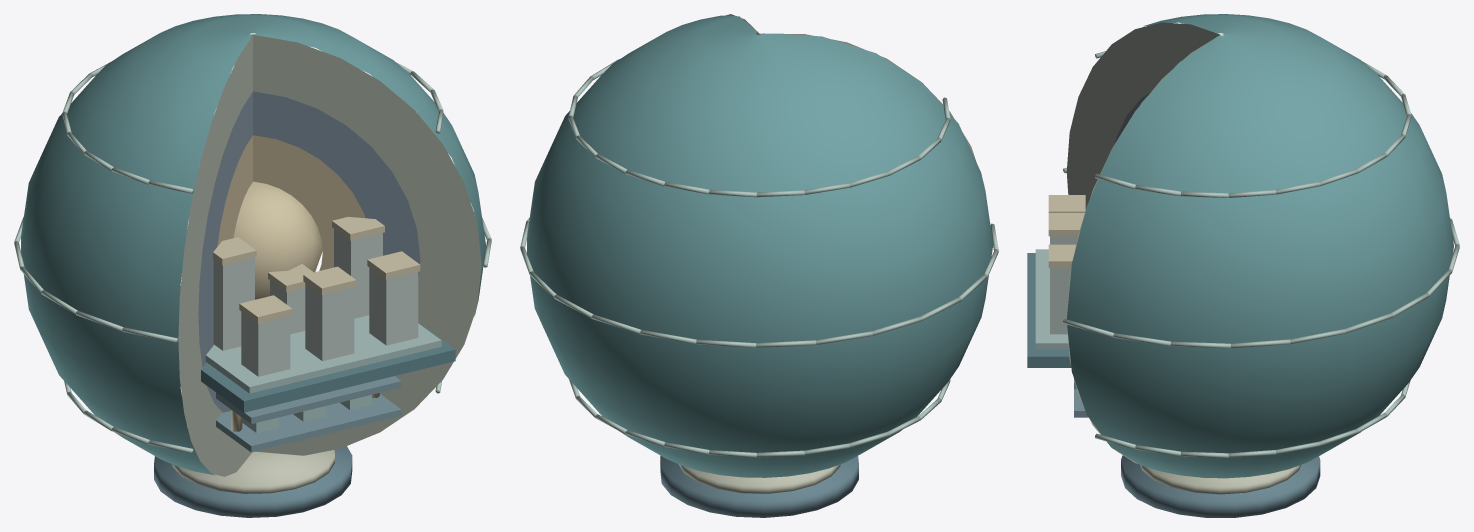
The model's file is ART-18.glb.
3 views of the same model, side by side, from view 1: azimuth 30°, elevation 25°; view 2: azimuth 150°, elevation 25°; view 3: azimuth 270°, elevation 25° (orthographic).
Parts seen in each view (by area): view 1: world; view 2: world; view 3: world.
Boxes of the visible parts, x1=… form: world: x1=14, y1=14, x2=491, y2=517; world: x1=520, y1=14, x2=998, y2=517; world: x1=1027, y1=14, x2=1459, y2=517.
Bounding box in the file's own units: 1.96 × 2 × 1.78.
